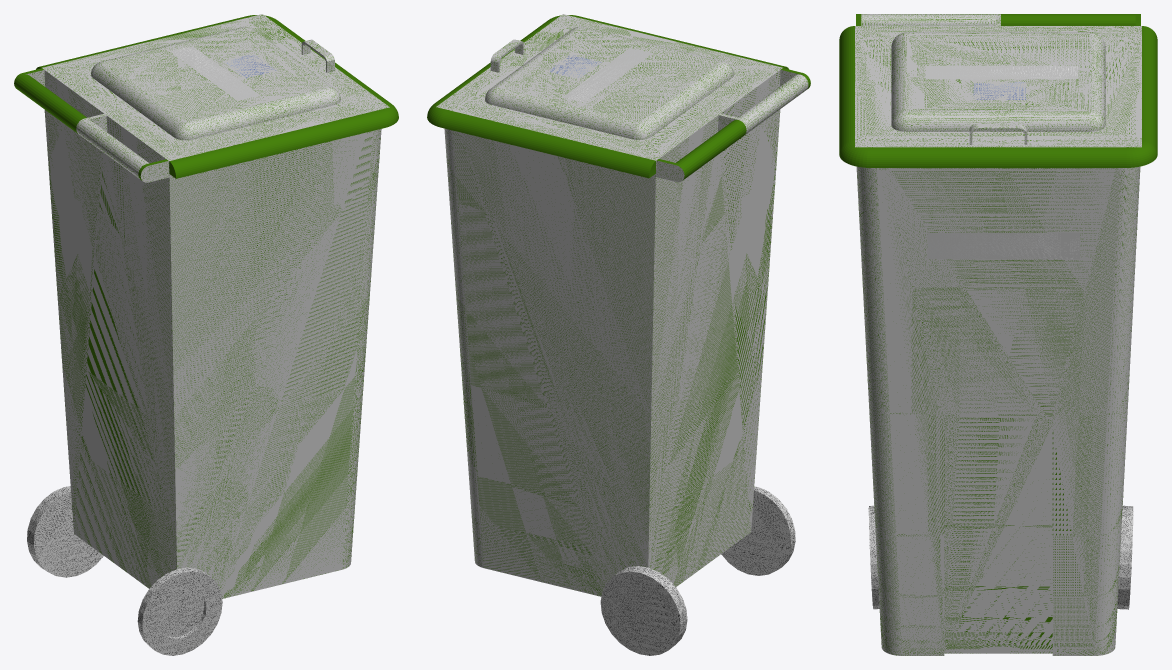
The picture shows the model from 3 angles, left to right: view 1: azimuth 30°, elevation 25°; view 2: azimuth 150°, elevation 25°; view 3: azimuth 270°, elevation 25°; orthographic projection. The views are drawn at different scales.
Parts seen in each view (by area): view 1: mesh3_mesh3-geometry, mesh1.002_mesh1-geometry, mesh2.001_mesh2-geometry; view 2: mesh3_mesh3-geometry, mesh1.002_mesh1-geometry, mesh2.001_mesh2-geometry; view 3: mesh3_mesh3-geometry, mesh1.001_mesh1-geometry, mesh1.002_mesh1-geometry, mesh2.001_mesh2-geometry.
Part boxes in pixels (x1=…): mesh3_mesh3-geometry: x1=14, y1=14, x2=398, y2=655; mesh1.002_mesh1-geometry: x1=169, y1=46, x2=260, y2=100; mesh2.001_mesh2-geometry: x1=222, y1=54, x2=276, y2=78; mesh3_mesh3-geometry: x1=427, y1=14, x2=810, y2=655; mesh1.002_mesh1-geometry: x1=562, y1=48, x2=652, y2=102; mesh2.001_mesh2-geometry: x1=547, y1=54, x2=601, y2=78; mesh3_mesh3-geometry: x1=839, y1=14, x2=1157, y2=655; mesh1.001_mesh1-geometry: x1=927, y1=232, x2=1079, y2=259; mesh1.002_mesh1-geometry: x1=925, y1=65, x2=1078, y2=79; mesh2.001_mesh2-geometry: x1=973, y1=82, x2=1025, y2=99.
Size of the model in its own units: 0.4265 by 0.8111 by 0.4003.
